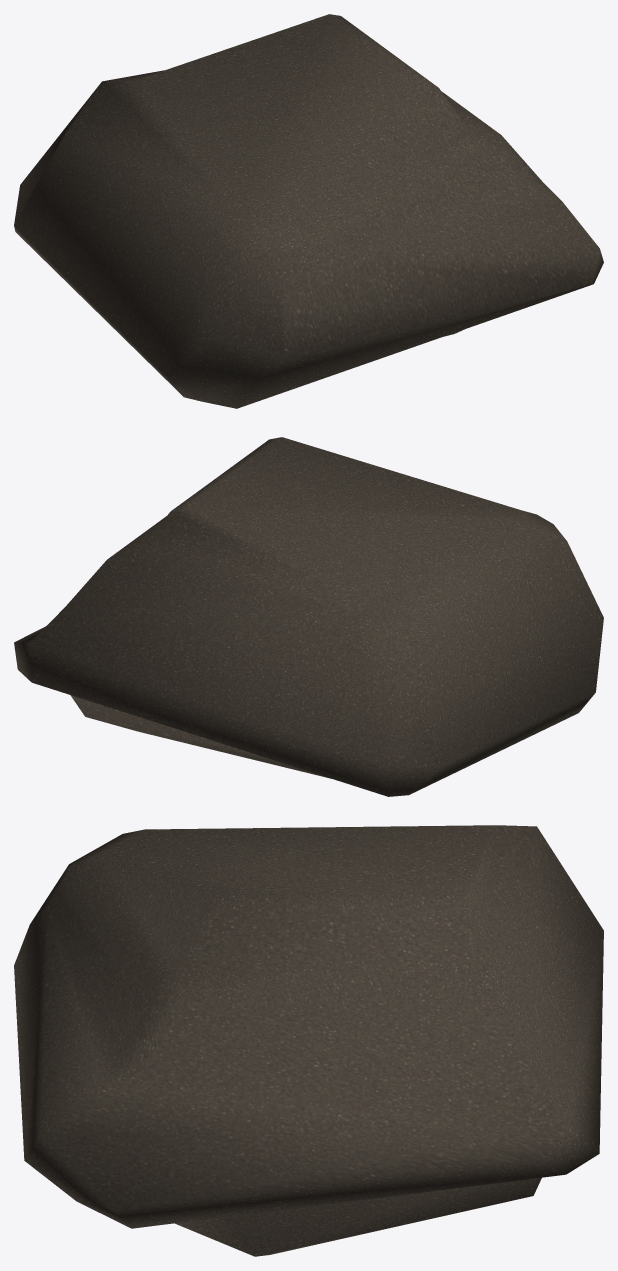
The model's file is Rock3.fbx.
3 views of the same model, one above another, from view 1: azimuth 30°, elevation 25°; view 2: azimuth 150°, elevation 25°; view 3: azimuth 270°, elevation 25° (orthographic). The views are drawn at different scales.
Visible parts, largest first — view 1: ThirdRock_Low; view 2: ThirdRock_Low; view 3: ThirdRock_Low.
Boxes of the visible parts, x1=… form: ThirdRock_Low: x1=14, y1=14, x2=603, y2=408; ThirdRock_Low: x1=14, y1=437, x2=603, y2=796; ThirdRock_Low: x1=14, y1=825, x2=603, y2=1256.
Size of the model in its own units: 2.75 by 1.67 by 2.63.
